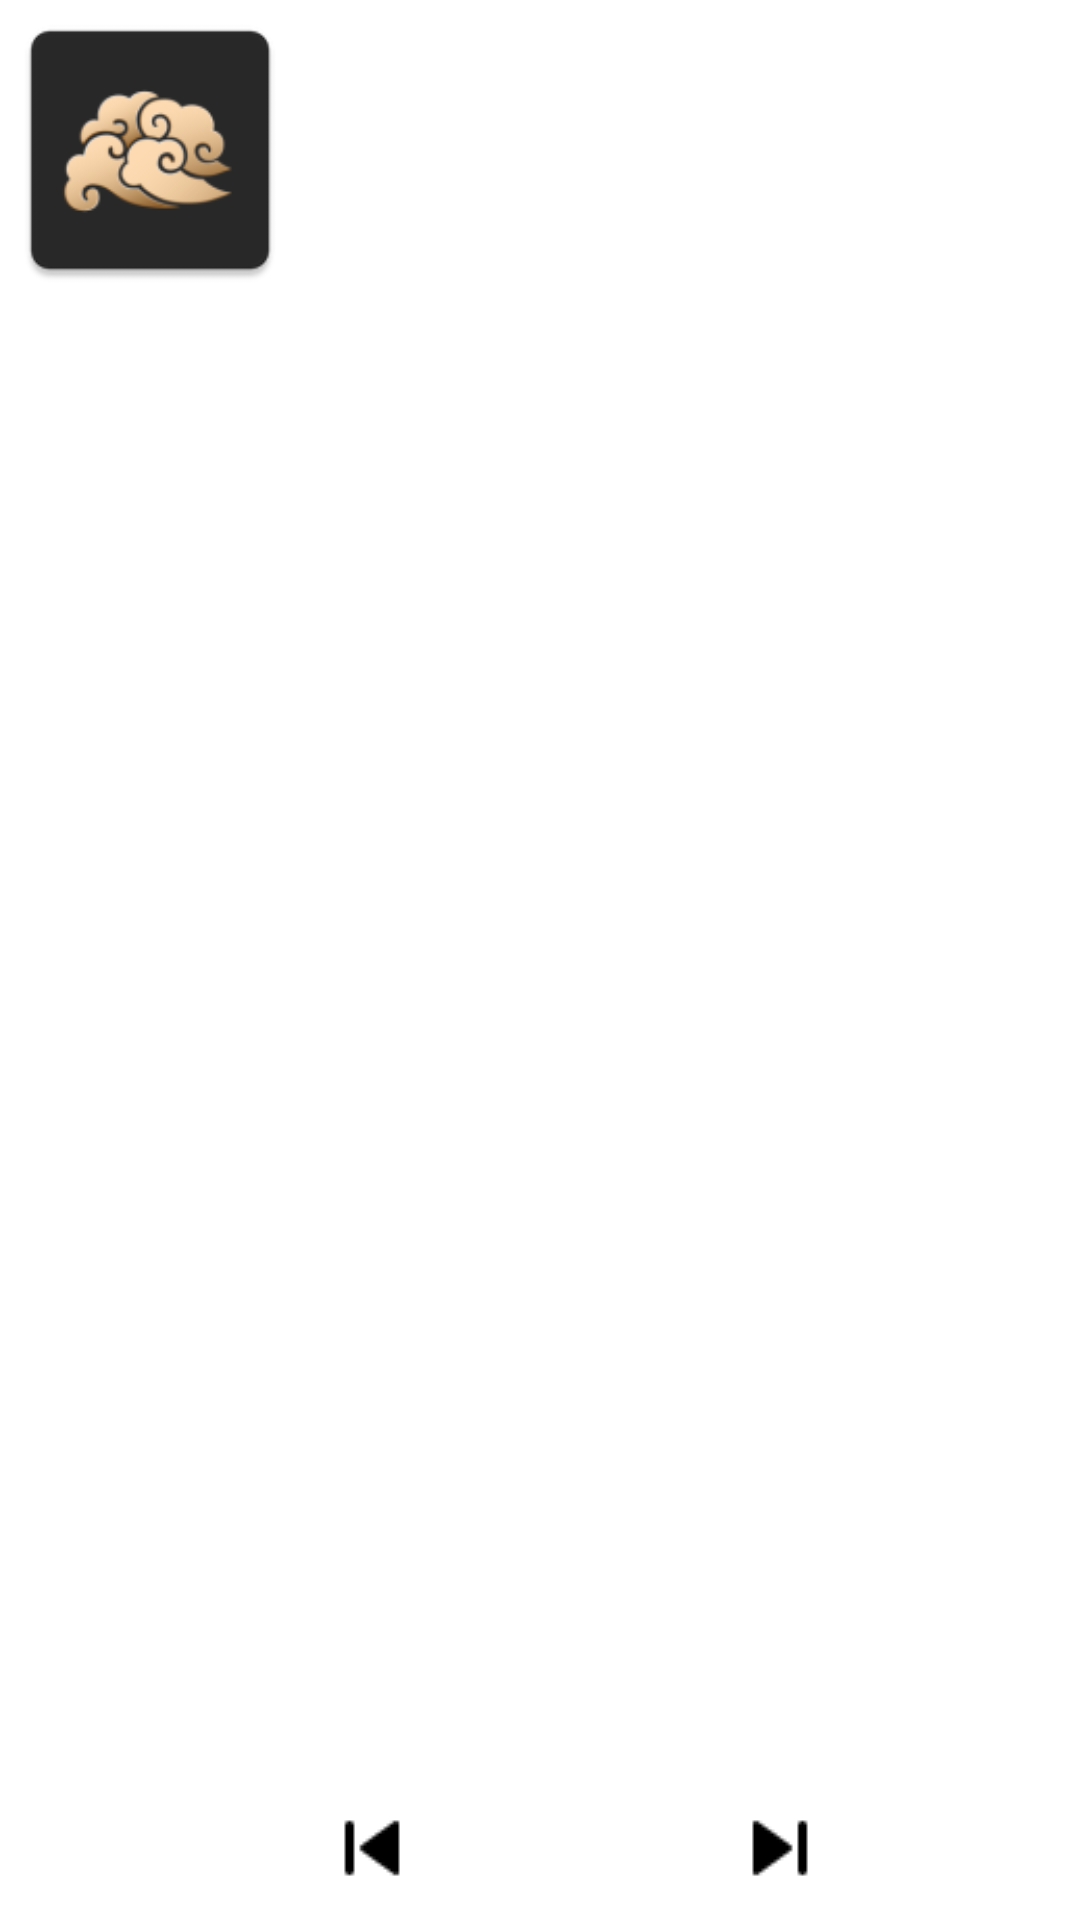

Icons on this 1080px×1920px Android screen, each with its box as (x1, y1, x2, y2):
next botton: (752, 1820, 808, 1876)
previous botton: (344, 1820, 400, 1876)
